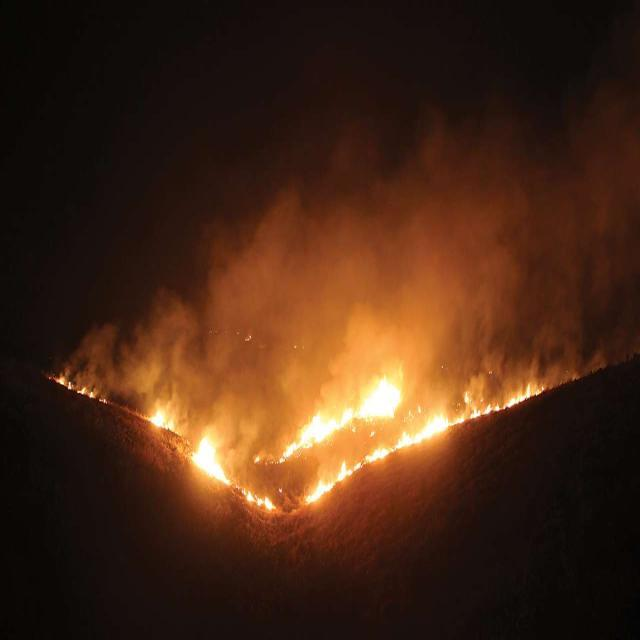Fire: (0, 216, 588, 539)
